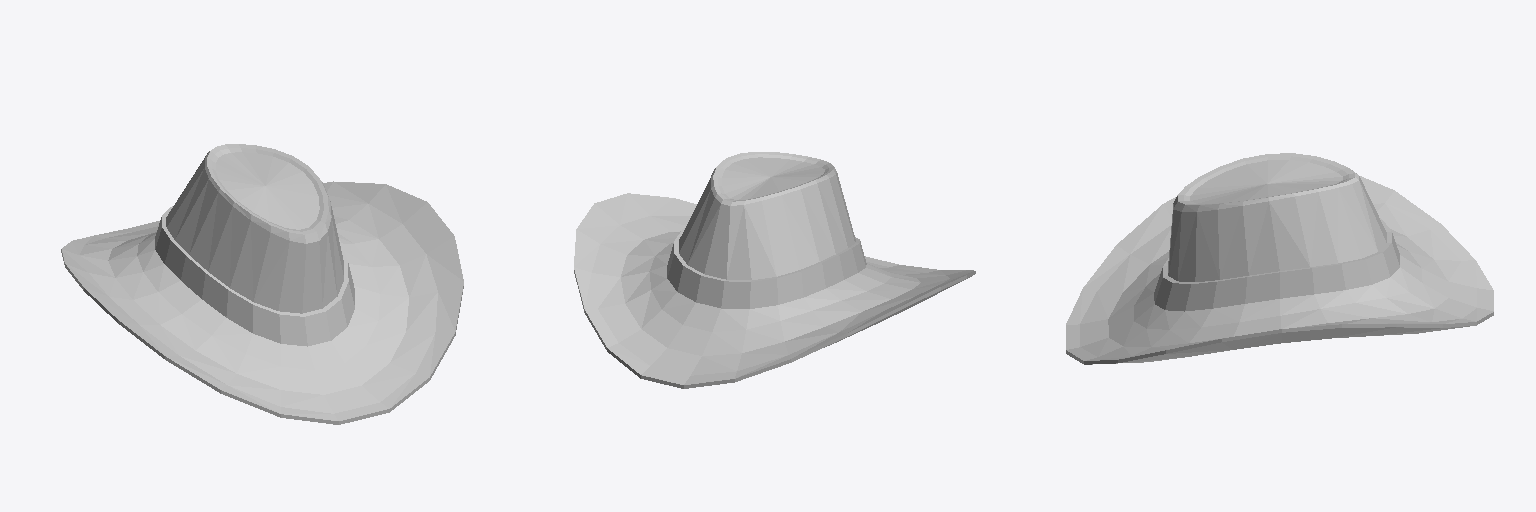
File: Hat_Sherif.obj
3 renders of one model, left to right at view 1: azimuth 30°, elevation 25°; view 2: azimuth 150°, elevation 25°; view 3: azimuth 270°, elevation 25°, orthographic.
Visible parts, largest first — view 1: hat_cowboy; view 2: hat_cowboy; view 3: hat_cowboy.
Part boxes in pixels (left/top/right/bottom): hat_cowboy: left=61, top=144, right=463, bottom=424; hat_cowboy: left=574, top=152, right=975, bottom=388; hat_cowboy: left=1066, top=153, right=1493, bottom=364.
Size of the model in its own units: 89.75 by 42.1 by 96.45.